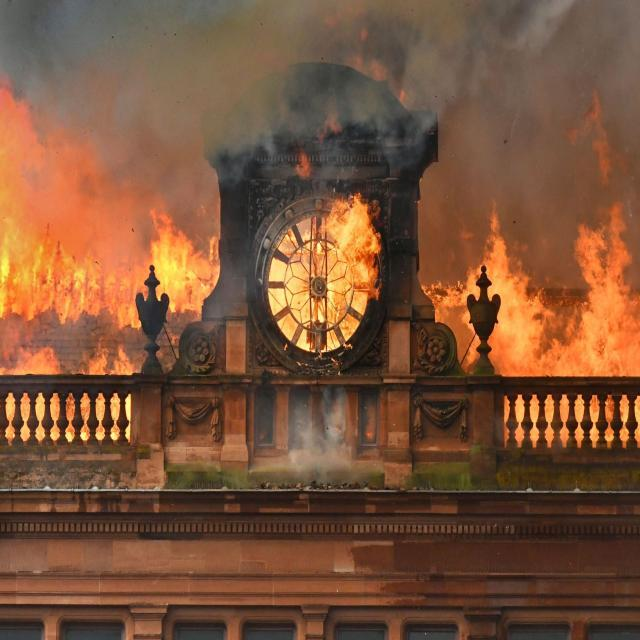Fire: (418, 199, 557, 453), (0, 96, 137, 326), (560, 204, 640, 446), (265, 208, 368, 356), (136, 196, 222, 316), (66, 343, 134, 448), (320, 191, 383, 301), (0, 348, 64, 450), (567, 92, 626, 185), (314, 106, 342, 140), (294, 150, 314, 182)
Smoke: (0, 0, 301, 144), (438, 0, 640, 158), (294, 0, 436, 113), (518, 177, 576, 288), (156, 142, 223, 225), (287, 388, 353, 471), (420, 162, 465, 282)
